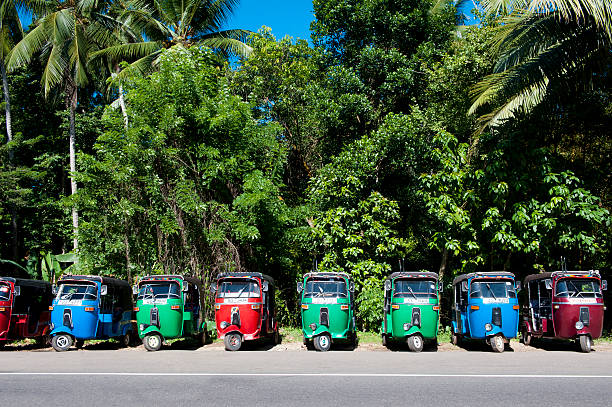threewheel: (520, 270, 608, 353), (46, 275, 132, 352), (133, 275, 208, 351), (451, 271, 520, 353), (211, 272, 282, 351), (295, 271, 356, 352), (381, 271, 442, 352), (1, 277, 51, 351)
